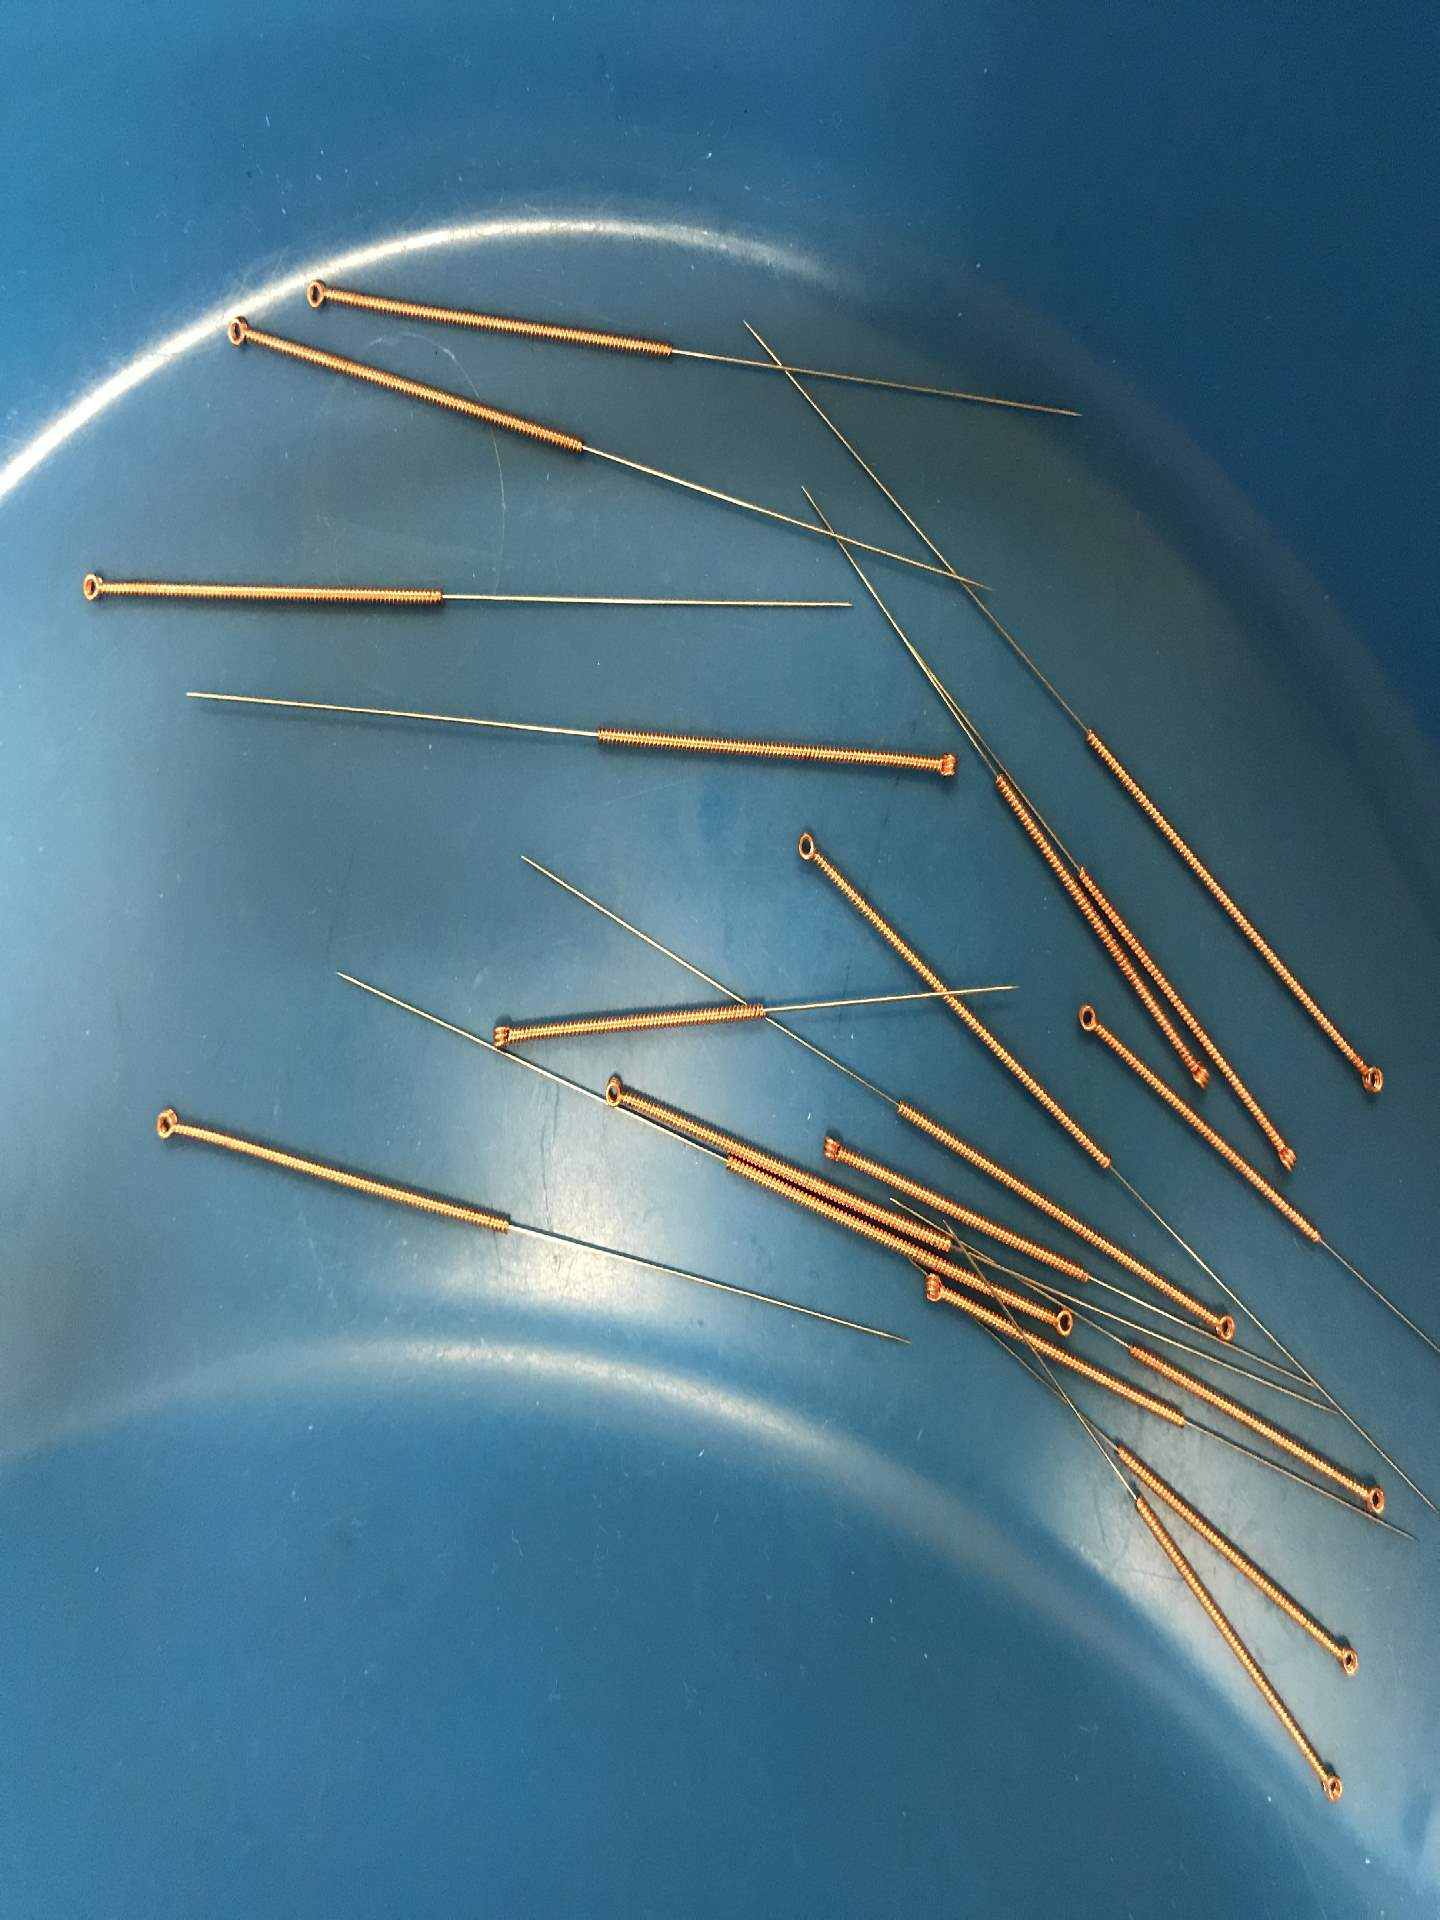needle: (70, 559, 116, 615), (144, 1098, 189, 1152), (218, 305, 262, 361), (293, 271, 339, 317), (1352, 1054, 1392, 1107), (921, 745, 971, 786), (594, 1070, 635, 1119), (812, 1129, 856, 1173), (788, 825, 827, 874), (1071, 993, 1109, 1043), (481, 1014, 523, 1057), (1331, 1637, 1366, 1686), (1311, 1763, 1349, 1807), (1355, 1479, 1390, 1524), (1271, 1132, 1304, 1178), (1206, 1306, 1242, 1346), (1183, 1054, 1215, 1098), (1045, 1305, 1080, 1342), (917, 1268, 950, 1308)
